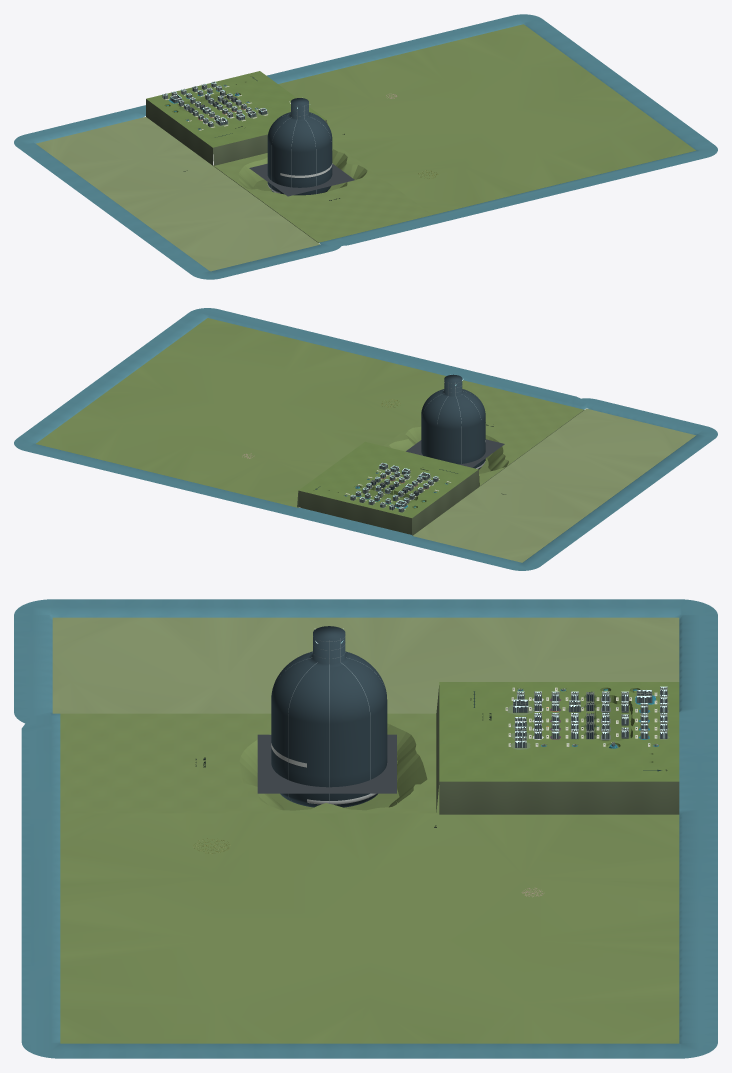
Rendered from tots-20260921d.glb.
3 renders of one model, top to bottom at view 1: azimuth 30°, elevation 25°; view 2: azimuth 150°, elevation 25°; view 3: azimuth 270°, elevation 25°, orthographic. The views are drawn at different scales.
Visible parts, largest first — view 1: TOTS2_地表頂點色__batch, TOTS2_海面頂點色__batch, TOTS2_深灰黑塔__batch, TOTS2_trim__batch, TOTS2_wall__batch, TOTS2_tower_apron__batch, TOTS2_青色結界__batch; view 2: TOTS2_地表頂點色__batch, TOTS2_海面頂點色__batch, TOTS2_深灰黑塔__batch, TOTS2_trim__batch, TOTS2_wall__batch, TOTS2_青色結界__batch, TOTS2_tower_apron__batch; view 3: TOTS2_地表頂點色__batch, TOTS2_海面頂點色__batch, TOTS2_深灰黑塔__batch, TOTS2_tower_apron__batch, TOTS2_wall__batch, TOTS2_trim__batch, TOTS2_青色結界__batch.
Boxes of the visible parts, x1,y1,x2,y2 form: TOTS2_地表頂點色__batch: (36,24,695,271); TOTS2_海面頂點色__batch: (14,14,717,279); TOTS2_深灰黑塔__batch: (267,98,332,195); TOTS2_trim__batch: (162,81,267,128); TOTS2_wall__batch: (162,82,266,129); TOTS2_tower_apron__batch: (249,163,354,196); TOTS2_青色結界__batch: (162,81,297,123); TOTS2_地表頂點色__batch: (36,318,695,562); TOTS2_海面頂點色__batch: (14,308,717,570); TOTS2_深灰黑塔__batch: (421,374,485,469); TOTS2_trim__batch: (345,462,447,511); TOTS2_wall__batch: (345,463,447,512); TOTS2_青色結界__batch: (351,379,463,508); TOTS2_tower_apron__batch: (406,439,504,467); TOTS2_地表頂點色__batch: (52,617,679,1043); TOTS2_海面頂點色__batch: (14,599,717,1058); TOTS2_深灰黑塔__batch: (271,626,387,807); TOTS2_tower_apron__batch: (257,734,396,793); TOTS2_wall__batch: (513,687,667,747); TOTS2_trim__batch: (513,687,667,747); TOTS2_青色結界__batch: (315,628,667,747).
Size of the model in its own units: 140 by 21.88 by 91.
Materials: 28 (1 with a texture image).
